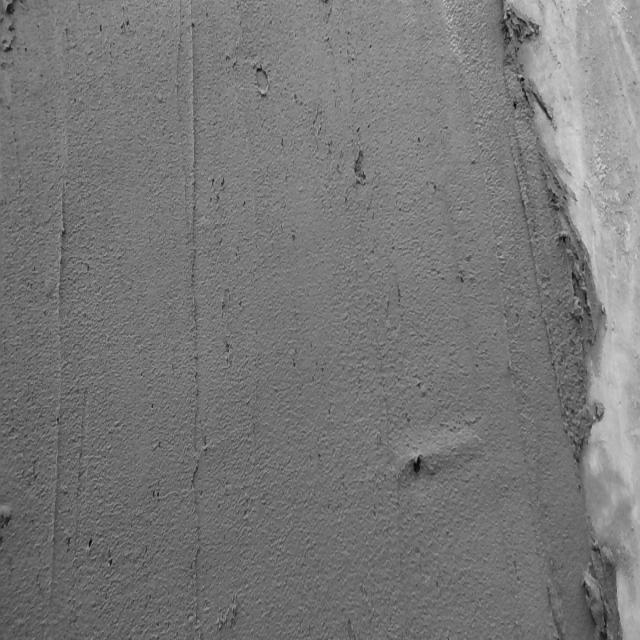trowels marks: (181, 16, 206, 640), (48, 188, 70, 600)
